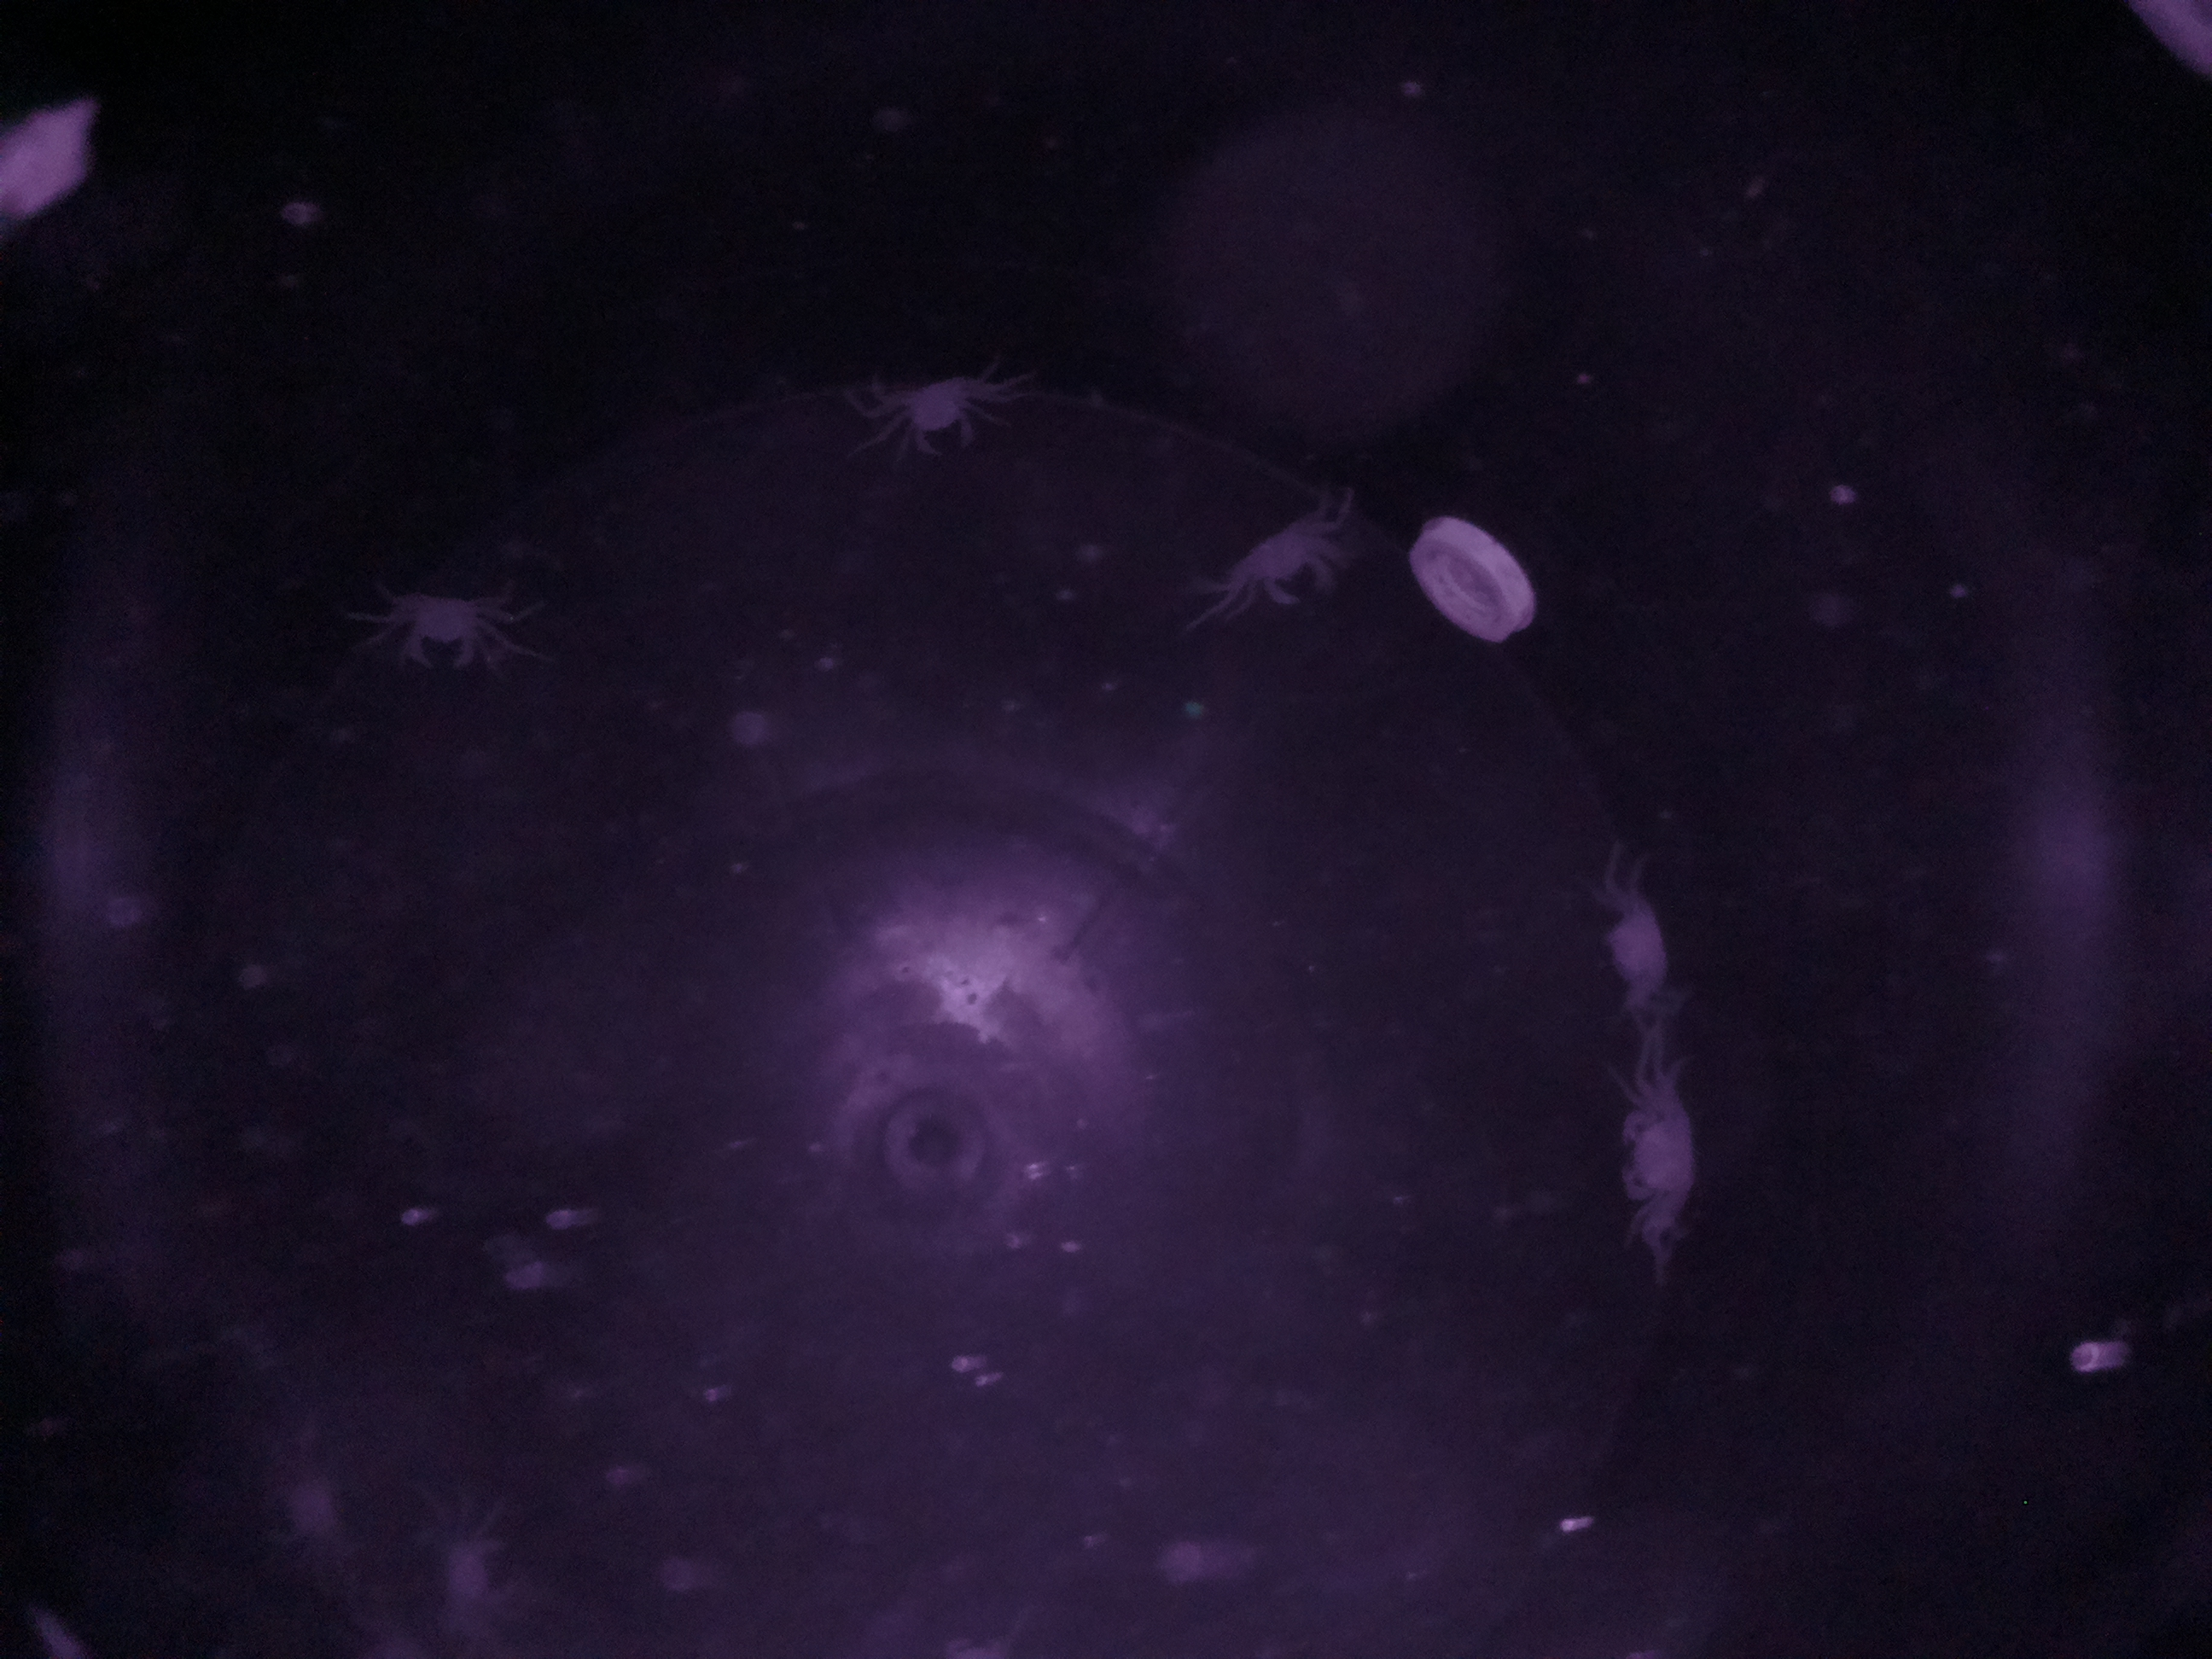Crab: (1590, 1073, 1728, 1230), (1583, 873, 1683, 1023), (1242, 500, 1357, 627), (888, 347, 995, 481), (388, 573, 505, 685)
